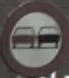No overtake: (6, 9, 66, 69)
